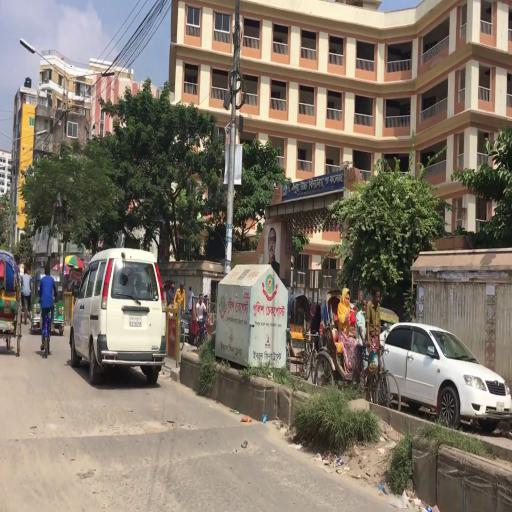bicycle: (39, 306, 56, 368), (197, 294, 211, 349), (23, 269, 32, 325)
car: (386, 319, 511, 429)
minivan: (71, 247, 164, 385)
rickshaw: (313, 288, 402, 408), (288, 290, 320, 379), (2, 252, 22, 357), (164, 281, 186, 351)
three wheelers (CNG): (32, 267, 66, 335)
